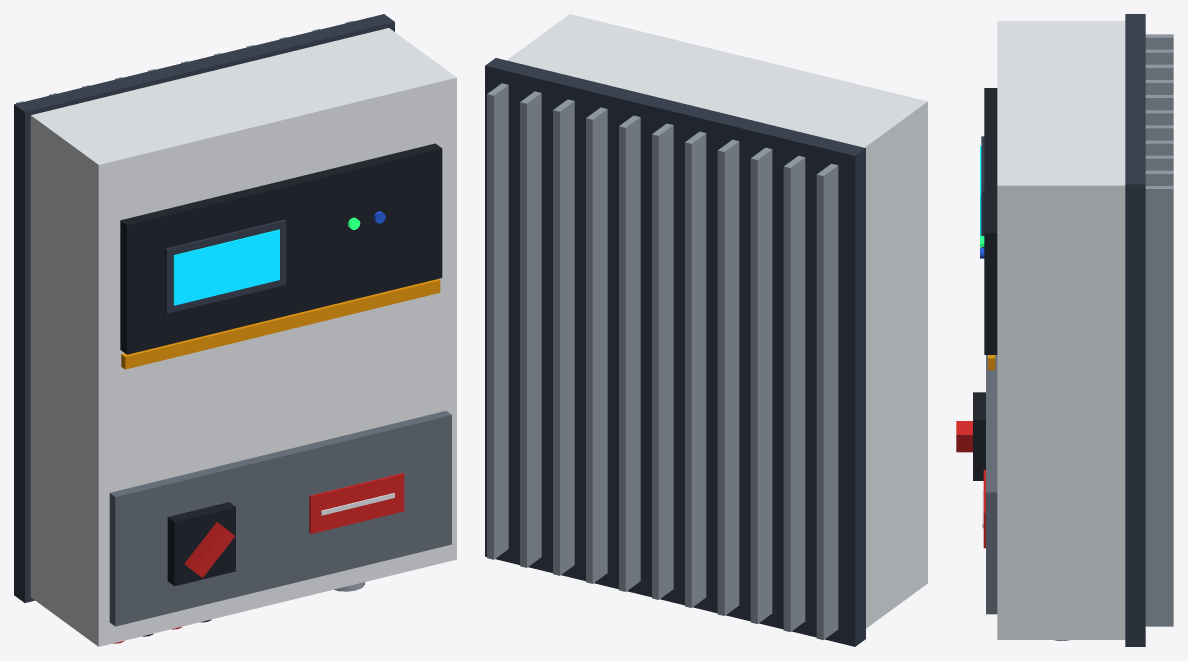
The picture shows the model from 3 angles, left to right: view 1: azimuth 30°, elevation 25°; view 2: azimuth 150°, elevation 25°; view 3: azimuth 270°, elevation 25°; orthographic projection. The views are drawn at different scales.
Parts seen in each view (by area): view 1: cad-solar-inverter-string; view 2: cad-solar-inverter-string; view 3: cad-solar-inverter-string.
Part boxes in pixels (left/top/right/bottom): cad-solar-inverter-string: left=14, top=14, right=456, bottom=646; cad-solar-inverter-string: left=485, top=14, right=927, bottom=646; cad-solar-inverter-string: left=956, top=14, right=1173, bottom=646.
Bounding box in the file's own units: 0.434 × 0.579 × 0.234.
